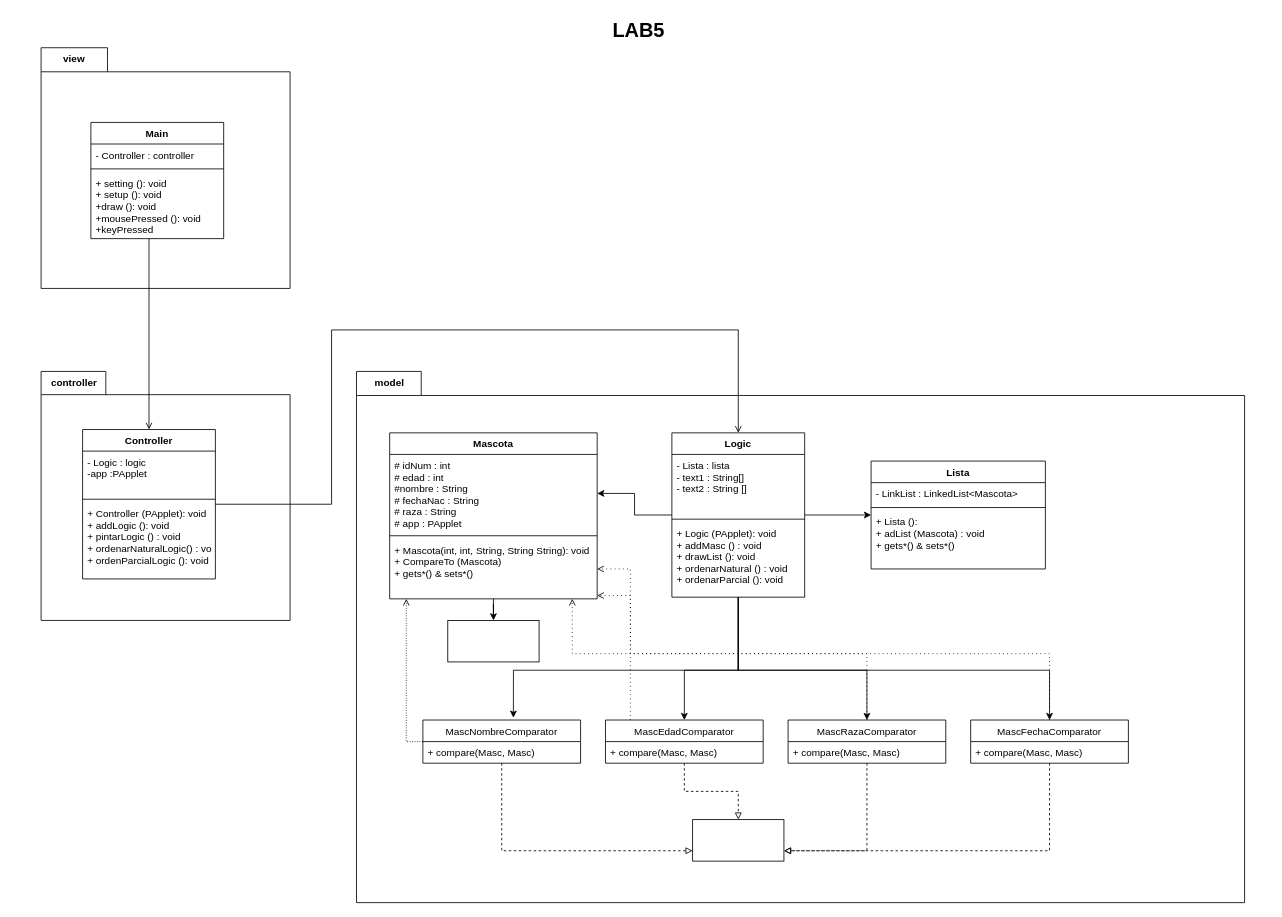
The diagram is 1282 pixels wide and 917 high, and some of its shapes have lost their labels. The centre of each missing label's shape, as x and y in pixels:
"«interface» Comparable" goes at pixel 493 641.
"«interface» Comparator" goes at pixel 738 840.
